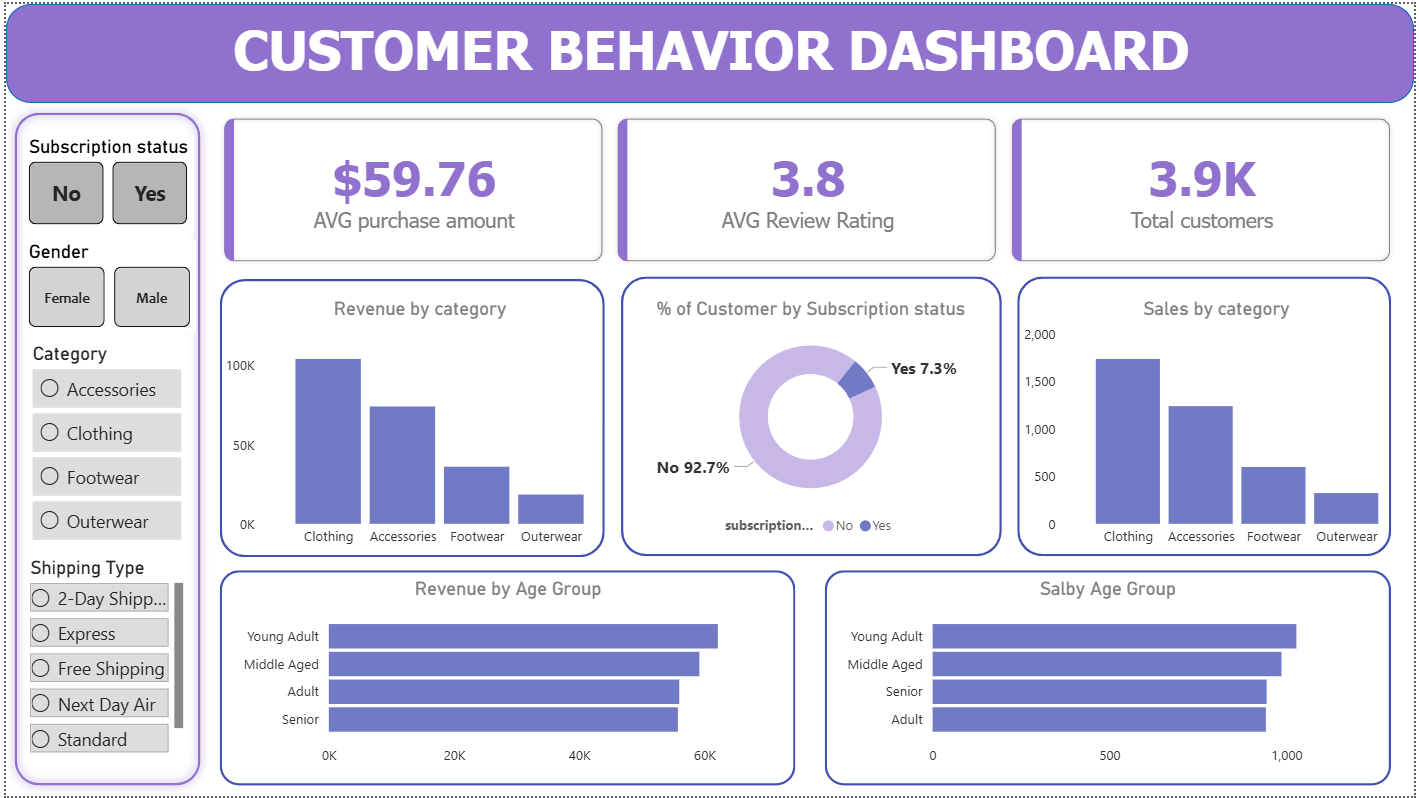

What the dashboard file says about the page in this screenshot:
{"tool":"powerbi","page":{"name":"Page 1","canvas":[1280,720],"ordinal":0},"visuals":[{"type":"shape","box":[0,0,1280,90],"z":0},{"type":"cardVisual","fields":{"Data":["customer_trends customers.AVG purchase amount","customer_trends customers.AVG Review Rating","customer_trends customers.Total customers"]},"box":[175.7,81.4,1104.3,174.3],"z":1000},{"type":"textbox","box":[175.7,7.1,930,74.3],"z":2000},{"type":"shape","box":[0,90.5,184.6,627.3],"z":3000},{"type":"shape","box":[194.3,250,350,252.9],"z":4000},{"type":"donutChart","title":"% of Customer by Subscription status","fields":{"Category":["customer_trends customers.subscription_status"],"Y":["Sum(customer_trends customers.customer_id)"]},"box":[560,267.1,342.9,225.7],"z":5000},{"type":"clusteredColumnChart","title":"Revenue by category","fields":{"Category":["customer_trends customers.category"],"Y":["Sum(customer_trends customers.purchase_amount)"]},"box":[194.3,267.1,364.3,235.7],"z":6000},{"type":"shape","box":[558.8,248.2,346.1,254.3],"z":7000},{"type":"clusteredColumnChart","title":"Sales by category","fields":{"Category":["customer_trends customers.category"],"Y":["CountNonNull(customer_trends customers.customer_id)"]},"box":[920,267.1,360,235.7],"z":8000},{"type":"shape","box":[919.6,248.2,339.9,254.3],"z":9000},{"type":"advancedSlicerVisual","fields":{"Values":["customer_trends customers.subscription_status"]},"box":[15.9,119.8,155.3,86.8],"z":10000},{"type":"advancedSlicerVisual","fields":{"Values":["customer_trends customers.gender"]},"box":[15.9,215.2,156.5,84.4],"z":11000},{"type":"listSlicer","fields":{"Values":["customer_trends customers.category"]},"box":[19.6,308.2,145.5,184.6],"z":12000},{"type":"listSlicer","fields":{"Values":["customer_trends customers.shipping_type"]},"box":[17.1,502.6,149.2,187.1],"z":13000},{"type":"shape","box":[194.3,514.8,526.1,195.5],"z":15000},{"type":"shape","box":[739.8,514.8,519.3,195.5],"z":16000},{"type":"clusteredBarChart","title":"Revenue by Age Group","fields":{"Y":["Sum(customer_trends customers.purchase_amount)"],"Category":["customer_trends customers.age_group"]},"box":[205.4,522.1,501.4,179.8],"z":16001},{"type":"clusteredBarChart","title":"Salby Age Group","fields":{"Y":["CountNonNull(customer_trends customers.purchase_amount)"],"Category":["customer_trends customers.age_group"]},"box":[754.5,522.1,494,179.8],"z":16002}]}

Visuals, with their boxes in screenshot pixels (x1, y1, x2, y2), scaled from the page's 1280x720 canvas onto the 1419x798 screenshot:
shape: left=0, top=0, right=1418, bottom=100
cardVisual - customer_trends customers.AVG purchase amount x customer_trends customers.AVG Review Rating: left=195, top=90, right=1418, bottom=283
textbox: left=195, top=8, right=1226, bottom=90
shape: left=0, top=100, right=205, bottom=796
shape: left=215, top=277, right=603, bottom=557
"% of Customer by Subscription status" donutChart: left=621, top=296, right=1001, bottom=546
"Revenue by category" clusteredColumnChart: left=215, top=296, right=619, bottom=557
shape: left=619, top=275, right=1003, bottom=557
"Sales by category" clusteredColumnChart: left=1020, top=296, right=1418, bottom=557
shape: left=1019, top=275, right=1396, bottom=557
advancedSlicerVisual - customer_trends customers.subscription_status: left=18, top=133, right=190, bottom=229
advancedSlicerVisual - customer_trends customers.gender: left=18, top=239, right=191, bottom=332
listSlicer - customer_trends customers.category: left=22, top=342, right=183, bottom=546
listSlicer - customer_trends customers.shipping_type: left=19, top=557, right=184, bottom=764
shape: left=215, top=571, right=799, bottom=787
shape: left=820, top=571, right=1396, bottom=787
"Revenue by Age Group" clusteredBarChart: left=228, top=579, right=784, bottom=778
"Salby Age Group" clusteredBarChart: left=836, top=579, right=1384, bottom=778
